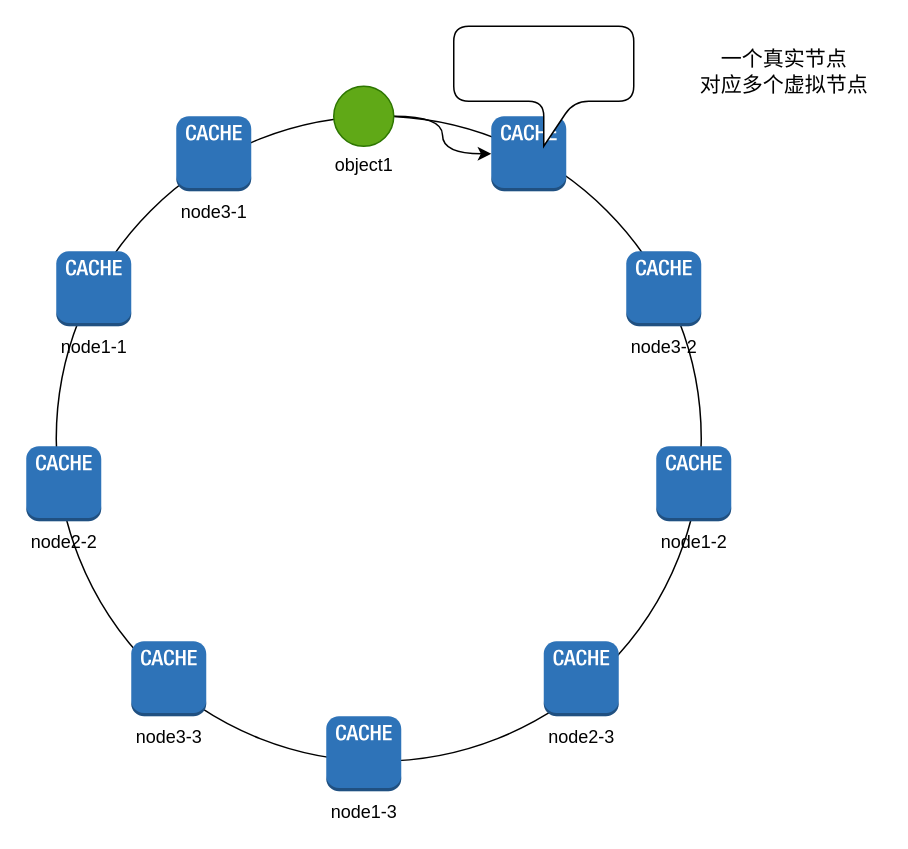
Some shapes in this 908 by 849 pixel diagram are drawn without their labels. Here are the shapes that lost their labels. From the top down, the centre of each, then its label:
At (543,85): "virtual node".
At (528,153): "node2-1".
